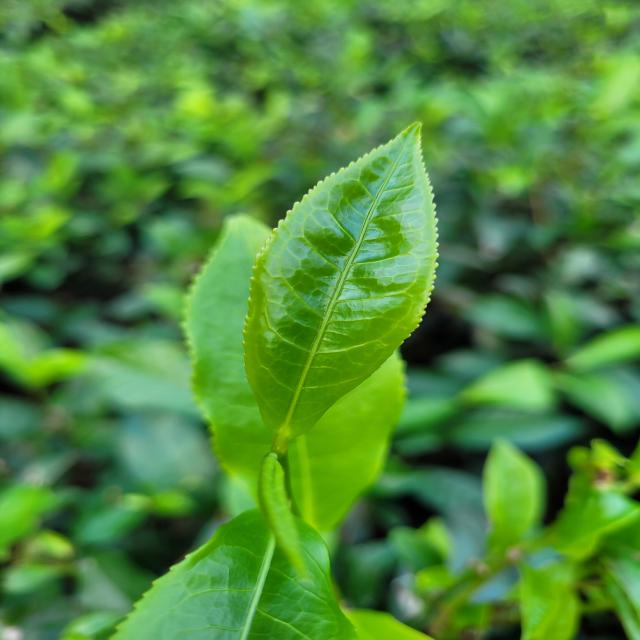Catagory A(1-2 days): (228, 110, 448, 484)
